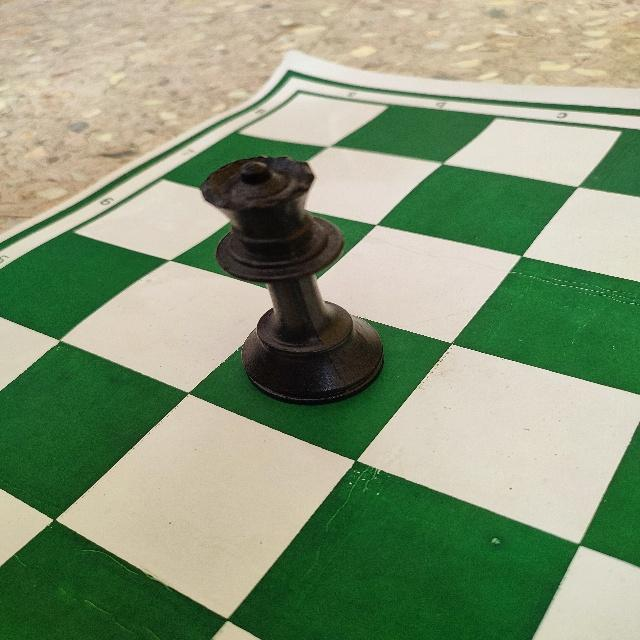Queen: (195, 152, 388, 407)
